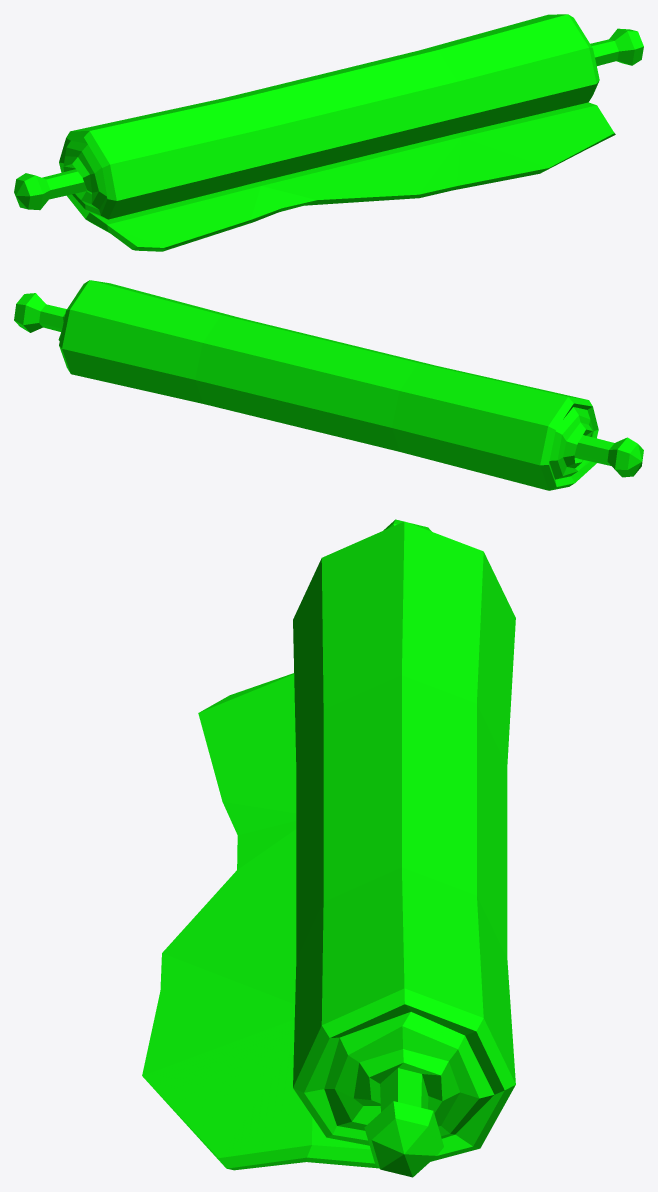
Rendered from SM_Fabric_Rolled_Round_Handle_Fantasy.fbx.
The picture shows the model from 3 angles, top to bottom: view 1: azimuth 30°, elevation 25°; view 2: azimuth 150°, elevation 25°; view 3: azimuth 270°, elevation 25°; orthographic projection. The views are drawn at different scales.
Visible parts, largest first — view 1: fabric-rolled-round-handle-fantasy; view 2: fabric-rolled-round-handle-fantasy; view 3: fabric-rolled-round-handle-fantasy.
Part boxes in pixels (box(x1,y1,x2,y2)): fabric-rolled-round-handle-fantasy: box(14, 14, 643, 251); fabric-rolled-round-handle-fantasy: box(14, 280, 643, 490); fabric-rolled-round-handle-fantasy: box(142, 519, 515, 1177).
Bounding box in the file's own units: 0.9706 × 0.1365 × 0.2508.
